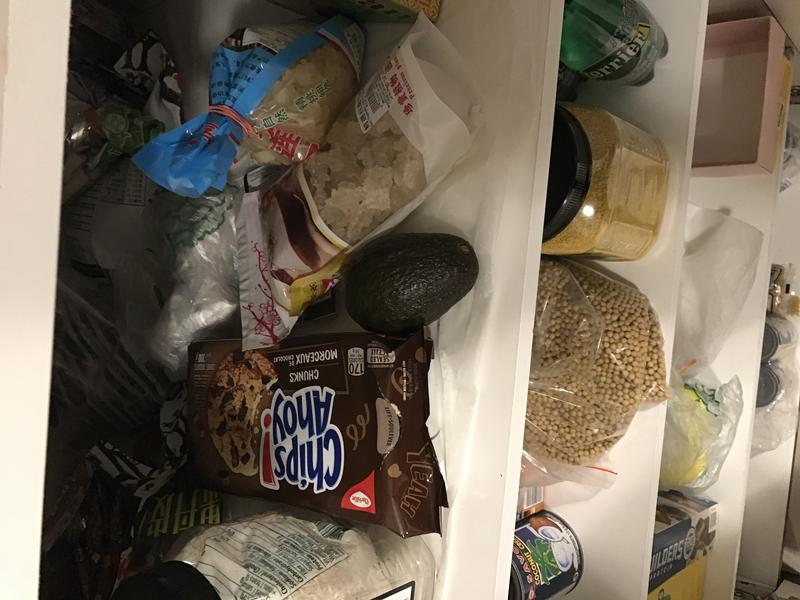avacado: (337, 225, 492, 337)
